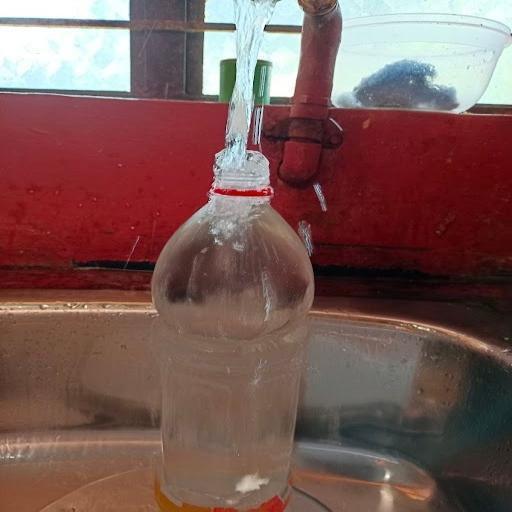bottle: (142, 133, 324, 512)
